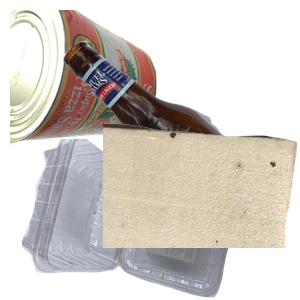glass: (60, 38, 300, 218)
metal: (10, 10, 159, 152)
plastic: (19, 139, 249, 300)
trash: (103, 120, 300, 300)
